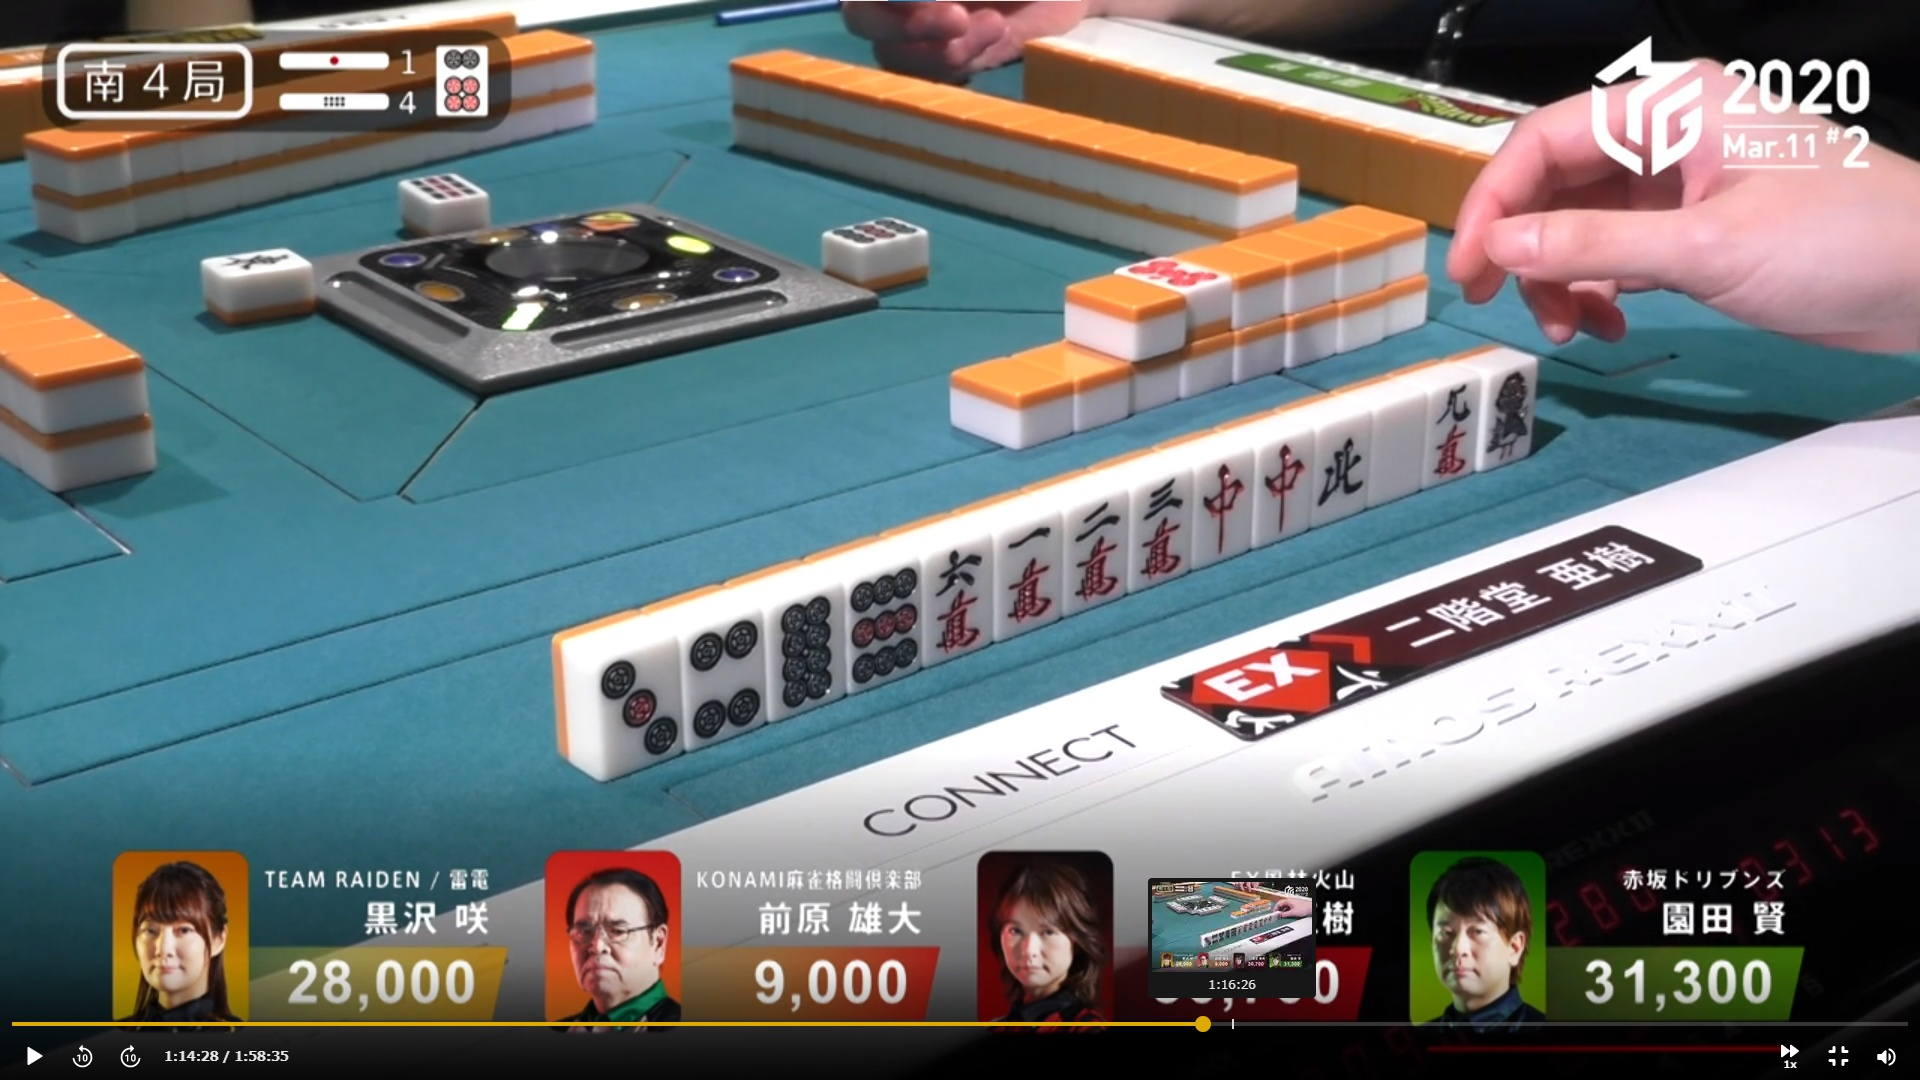1m: (989, 512, 1062, 637)
1s: (1485, 364, 1524, 462)
2m: (1060, 492, 1125, 609)
3m: (1131, 472, 1191, 588)
3p: (593, 636, 679, 764)
4p: (686, 615, 762, 738)
6m: (920, 541, 990, 662)
8p: (771, 587, 840, 705)
9m: (1424, 378, 1477, 488)
9p: (847, 566, 920, 683)
chun: (1251, 429, 1303, 547), (1193, 450, 1244, 568)
haku: (1367, 375, 1419, 505)
hand_nan_4: (47, 40, 258, 119)
pei: (1309, 413, 1364, 526)
round_4: (268, 87, 429, 116)
team_exfurinkazan: (1159, 618, 1425, 741)
